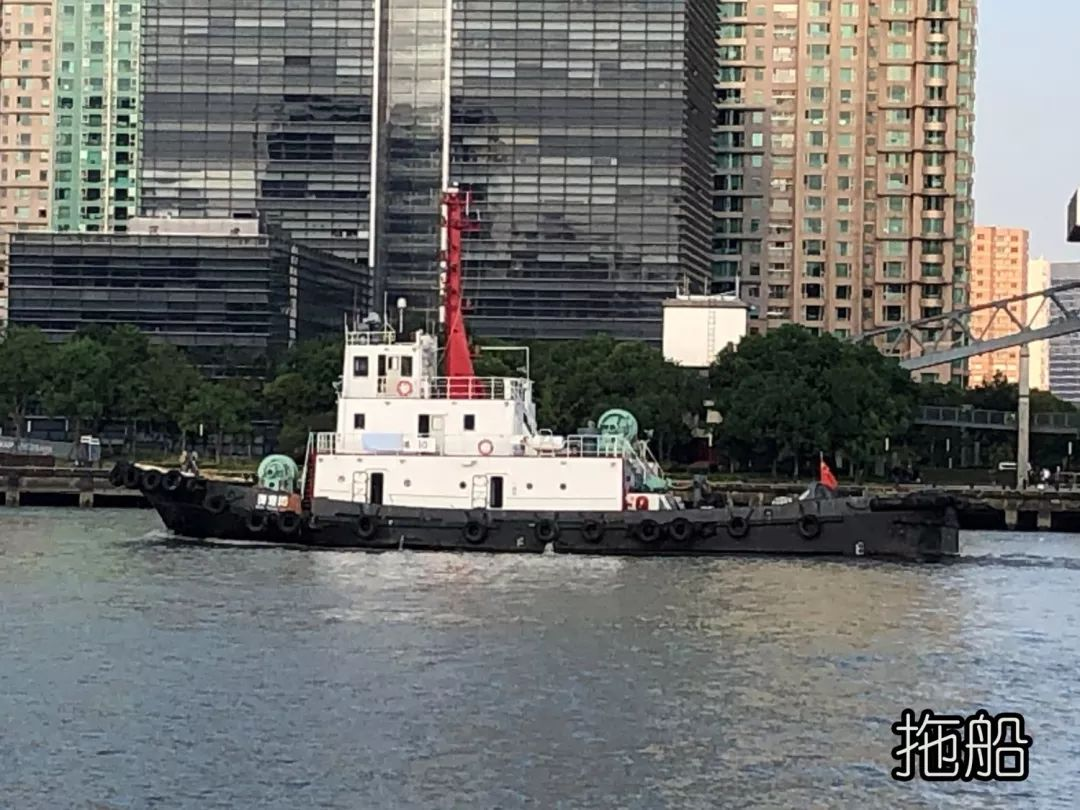otherboat: (99, 240, 971, 578)
